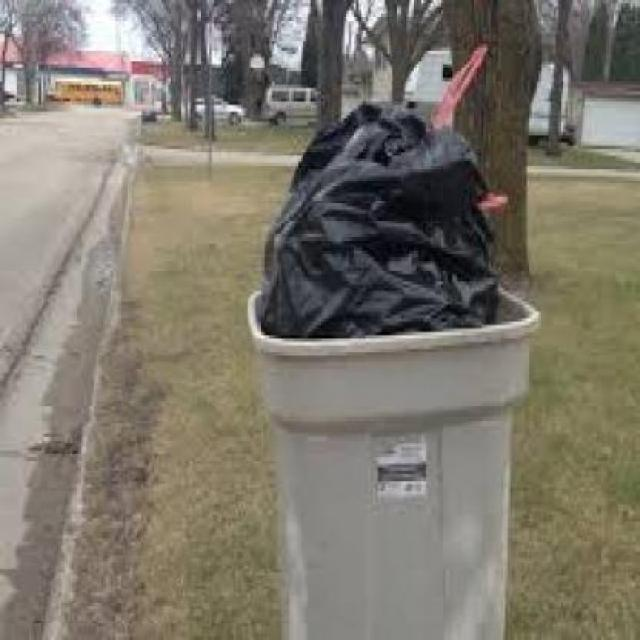garbage: (252, 79, 510, 330)
